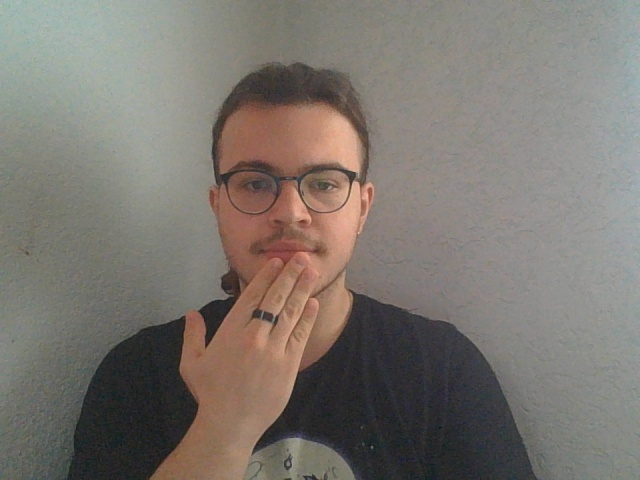ThankYou: (176, 250, 354, 480)
